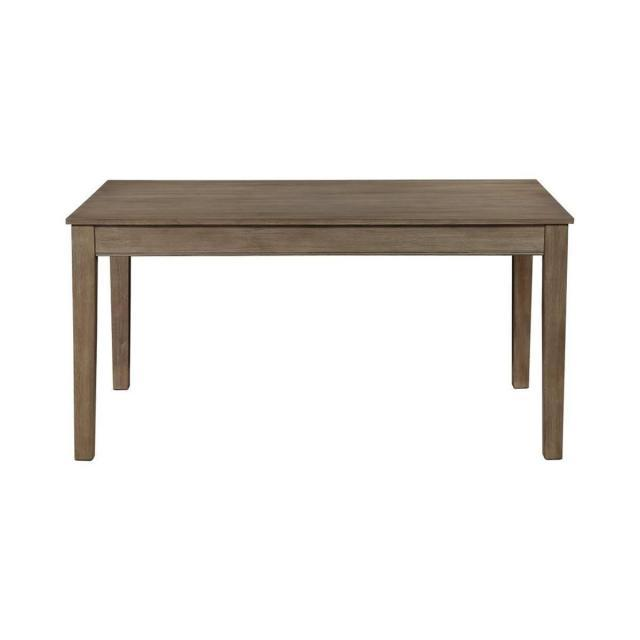mobile-phone: (66, 174, 573, 466)
